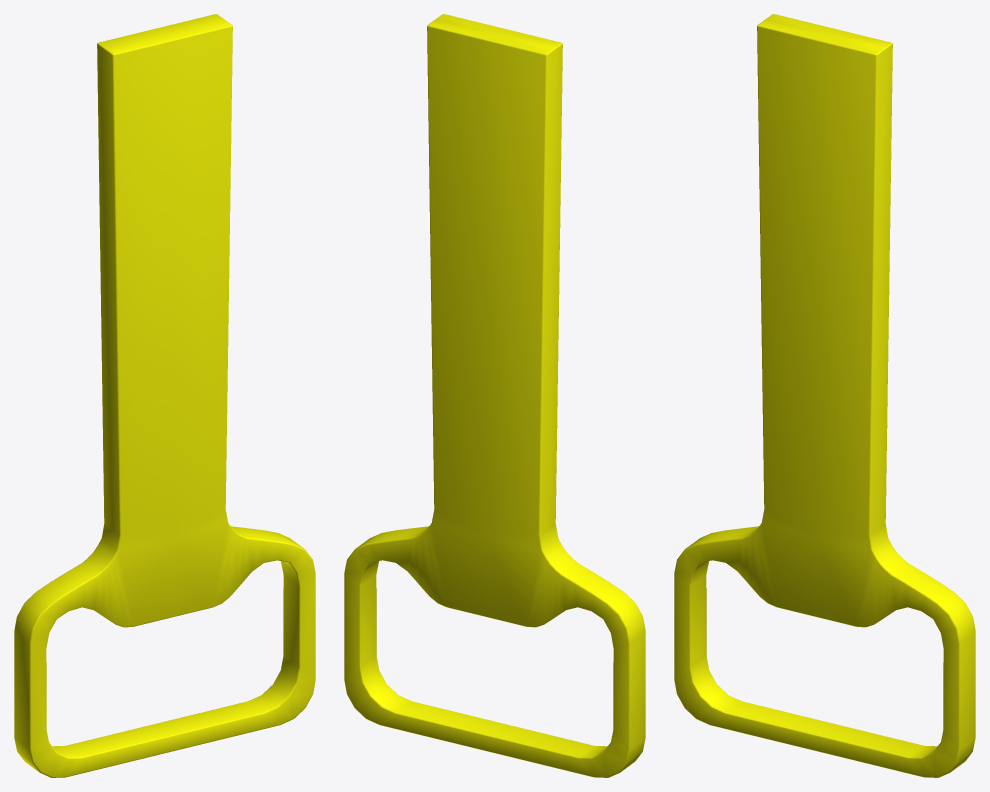
File: batnap_low.glb
3 views of the same model, side by side, from view 1: azimuth 30°, elevation 25°; view 2: azimuth 150°, elevation 25°; view 3: azimuth 330°, elevation 25° (orthographic).
Visible parts, largest first — view 1: Bat_nap; view 2: Bat_nap; view 3: Bat_nap.
Part boxes in pixels (x1=…): Bat_nap: x1=14, y1=14, x2=315, y2=777; Bat_nap: x1=344, y1=14, x2=645, y2=777; Bat_nap: x1=674, y1=14, x2=975, y2=777.
Size of the model in its own units: 2.79 by 6.63 by 0.2808.
1 material, 1 textured.
